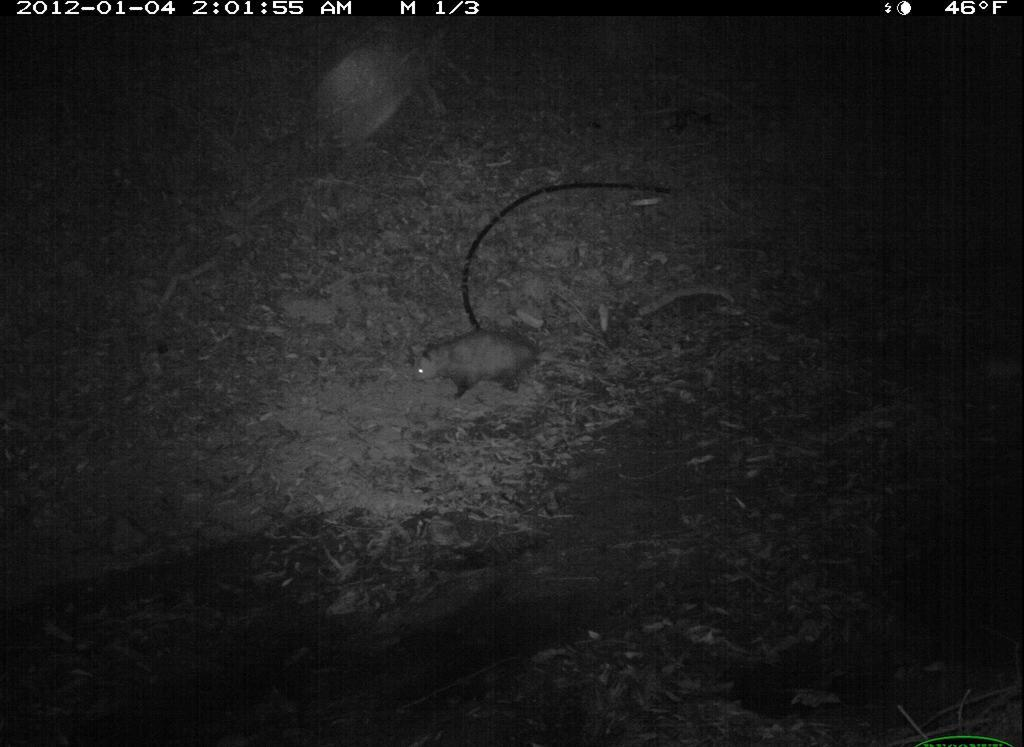opossum: (387, 318, 597, 413)
